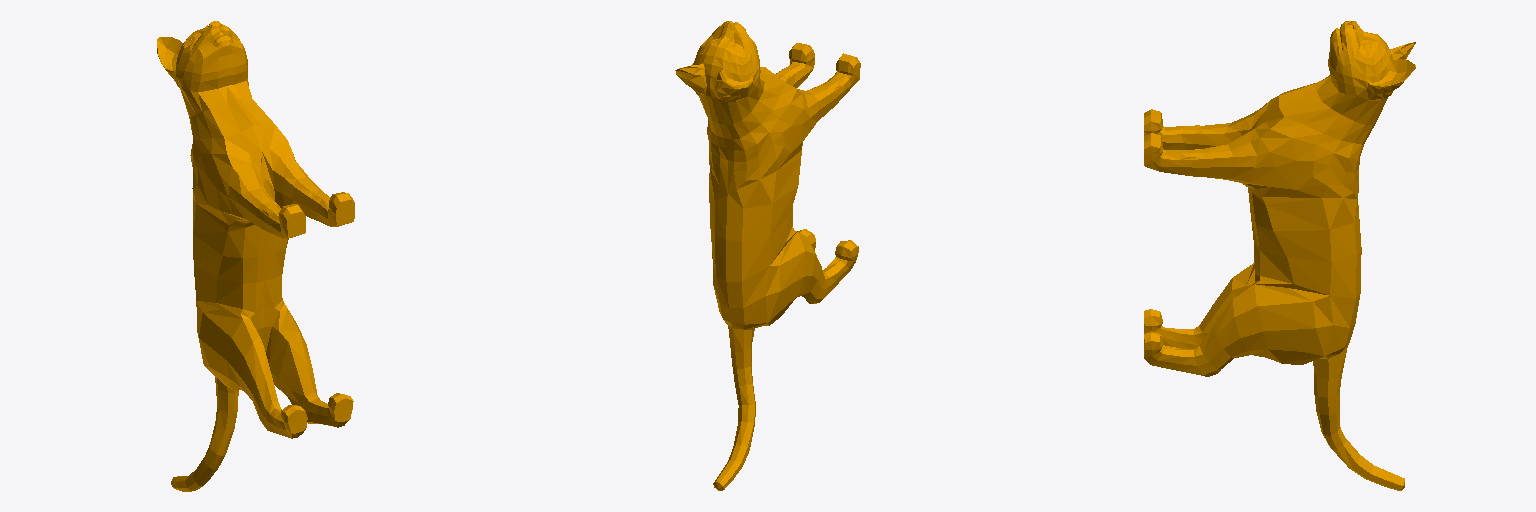
URDF robot description (none):
<robot name="none">
       <link name="none">
           <visual>
               <origin rpy="0 0 0" xyz="0 0 0" />
               <geometry>
                   <mesh filename="siameseCat.obj" />
               </geometry>
           </visual>
          <collision>
              <origin rpy="0 0 0" xyz="0 0.255 0" />
              <geometry>
                  <box size="0.163183 0.517559 1.000000" />
              </geometry>
          </collision>

          <inertial>
            <mass value="1.0" />
            <inertia ixx="0.0" ixy="0.0" ixz="0.0" iyy="0.0" iyz="0.0" izz="0.0" />
          </inertial>
      </link>
  </robot>

--- Facts derived from the render (not from the file) ---
3 views of the same robot in one strip: view 1: azimuth 30°, elevation 25°; view 2: azimuth 150°, elevation 25°; view 3: azimuth 270°, elevation 25° (orthographic).
Robot: none — 1 links, 0 joints (none); root link none; default pose: all joints at 0.
Links seen in each view (by area): view 1: none; view 2: none; view 3: none.
Boxes of the visible links, left/top/right/bottom form: none: left=157, top=21, right=354, bottom=491; none: left=675, top=21, right=860, bottom=490; none: left=1144, top=21, right=1415, bottom=490.
Bounding box of the posed robot: 0.1632 × 0.5176 × 1 m (x, y, z).
Meshes: 1 distinct files referenced, 1 mesh visuals loaded (1 OBJ).